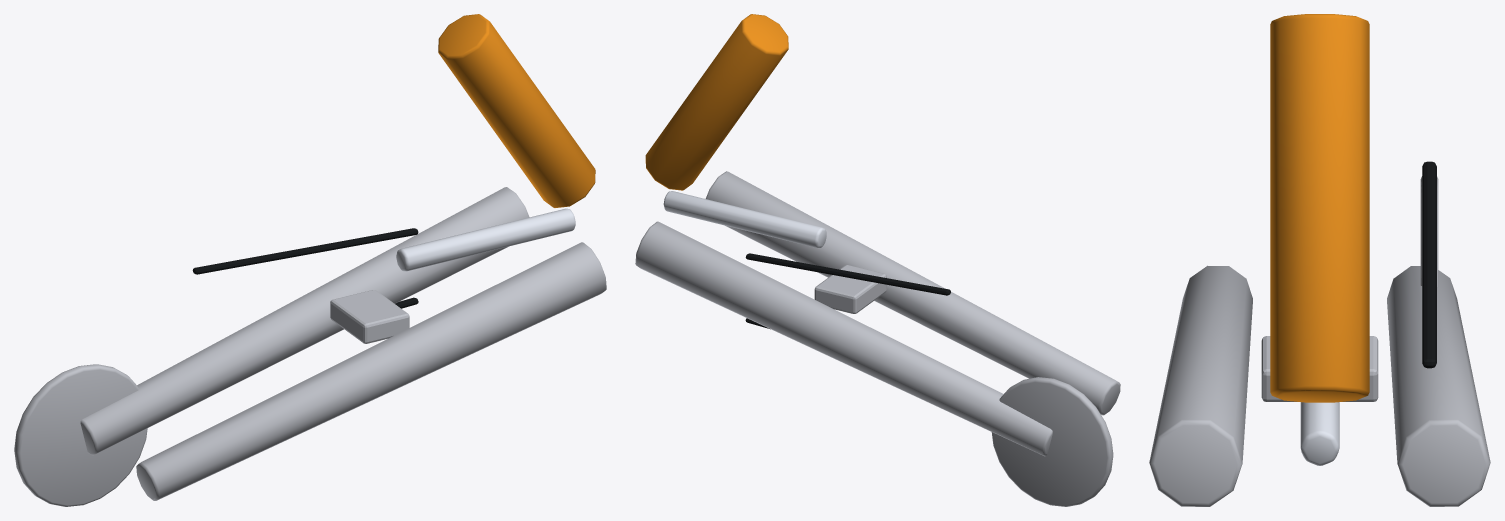
The model's file is bike_swingarm.obj.
3 views of the same model, side by side, from view 1: azimuth 30°, elevation 25°; view 2: azimuth 150°, elevation 25°; view 3: azimuth 270°, elevation 25° (orthographic). The views are drawn at different scales.
Parts seen in each view (by area): view 1: Swingarm; view 2: Swingarm; view 3: Swingarm.
Part boxes in pixels (x1,y1,x2,y2): Swingarm: (14, 14, 606, 506); Swingarm: (635, 14, 1120, 506); Swingarm: (1149, 14, 1490, 506).
Size of the model in its own units: 0.7009 by 0.5209 by 0.2337.
